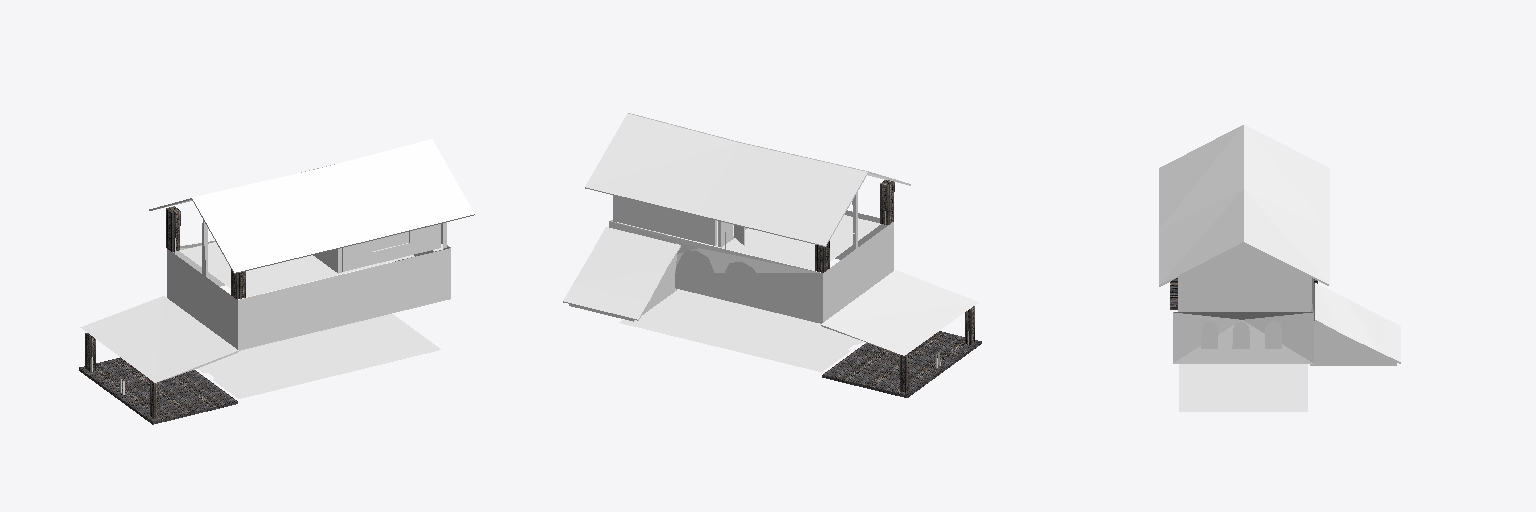
3 views of the same model, side by side, from view 1: azimuth 30°, elevation 25°; view 2: azimuth 150°, elevation 25°; view 3: azimuth 270°, elevation 25° (orthographic).
Visible parts, largest first — view 1: Default_Layer; view 2: Default_Layer; view 3: Default_Layer.
Boxes of the visible parts, <box> form: Default_Layer: <box>79,139,474,424</box>; Default_Layer: <box>563,113,981,397</box>; Default_Layer: <box>1159,125,1400,411</box>.
Bounding box in the file's own units: 33.91 × 18.75 × 22.5.
6 materials, 2 textured.